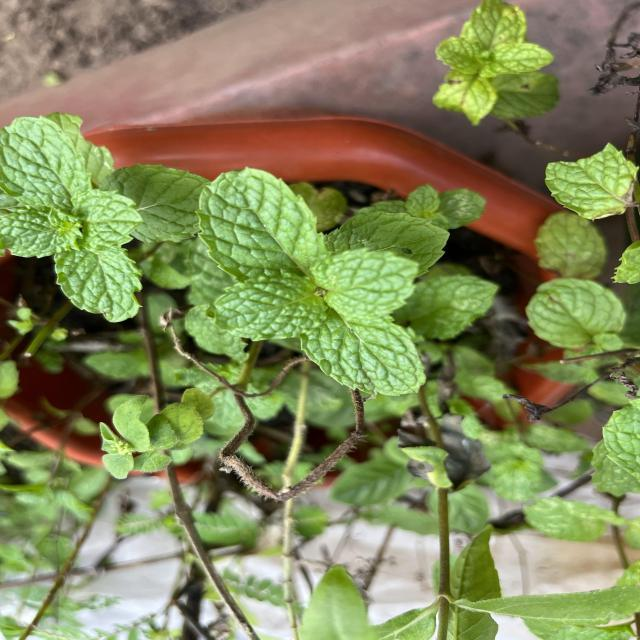Mentha spicata: (194, 165, 328, 282), (298, 316, 429, 396), (1, 114, 93, 211), (205, 272, 327, 344), (310, 245, 420, 320), (51, 245, 145, 324)
